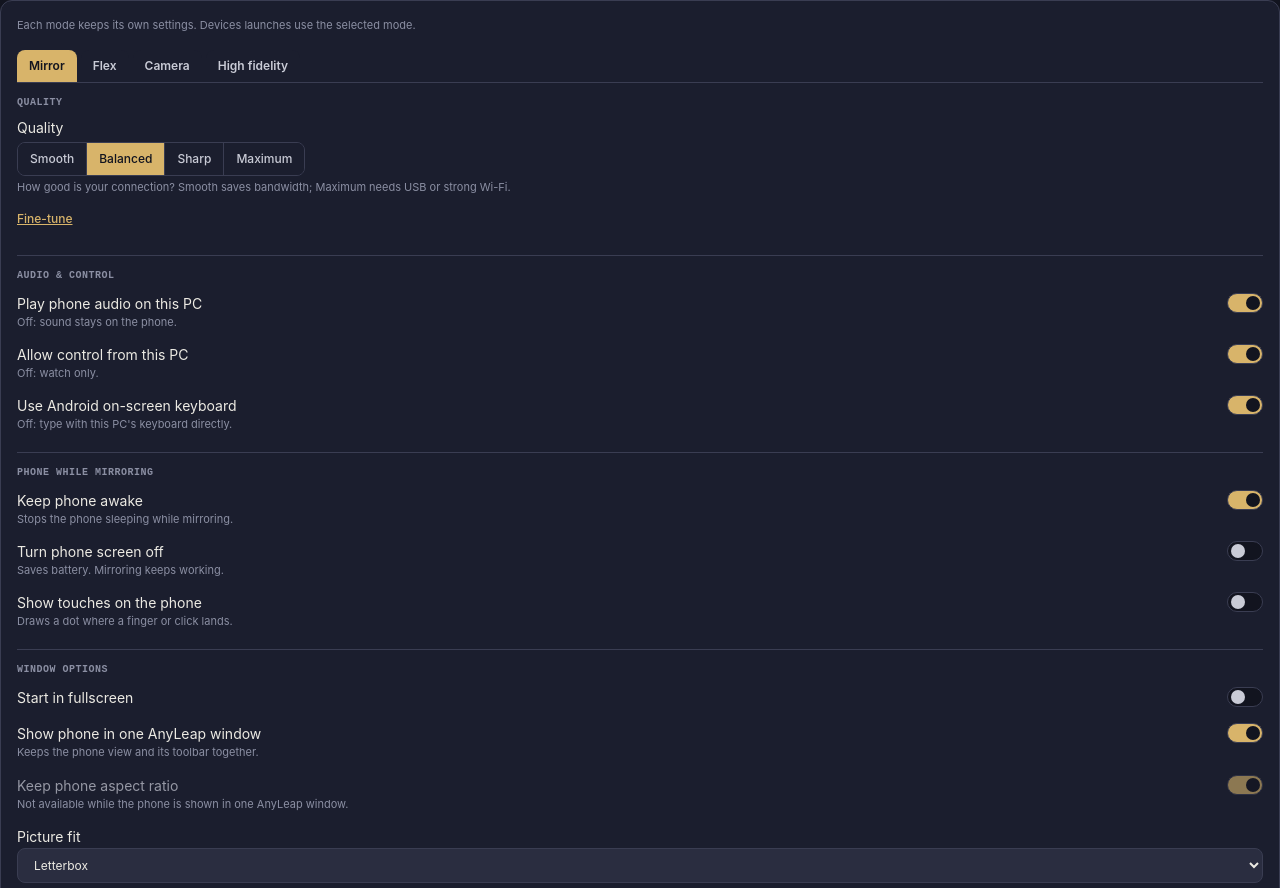
Test: PhoneMirroringSection › aspect-ratio switch is disabled with a reason while one-window mode is on
Check: the switch in the row of "Keep phone aspect ratio" is disabled, box [1227,774,1263,794]
Click the switch in the row of "Show phone in one AnyLeap window".
click(1245, 733)  # box [1227,723,1263,743]
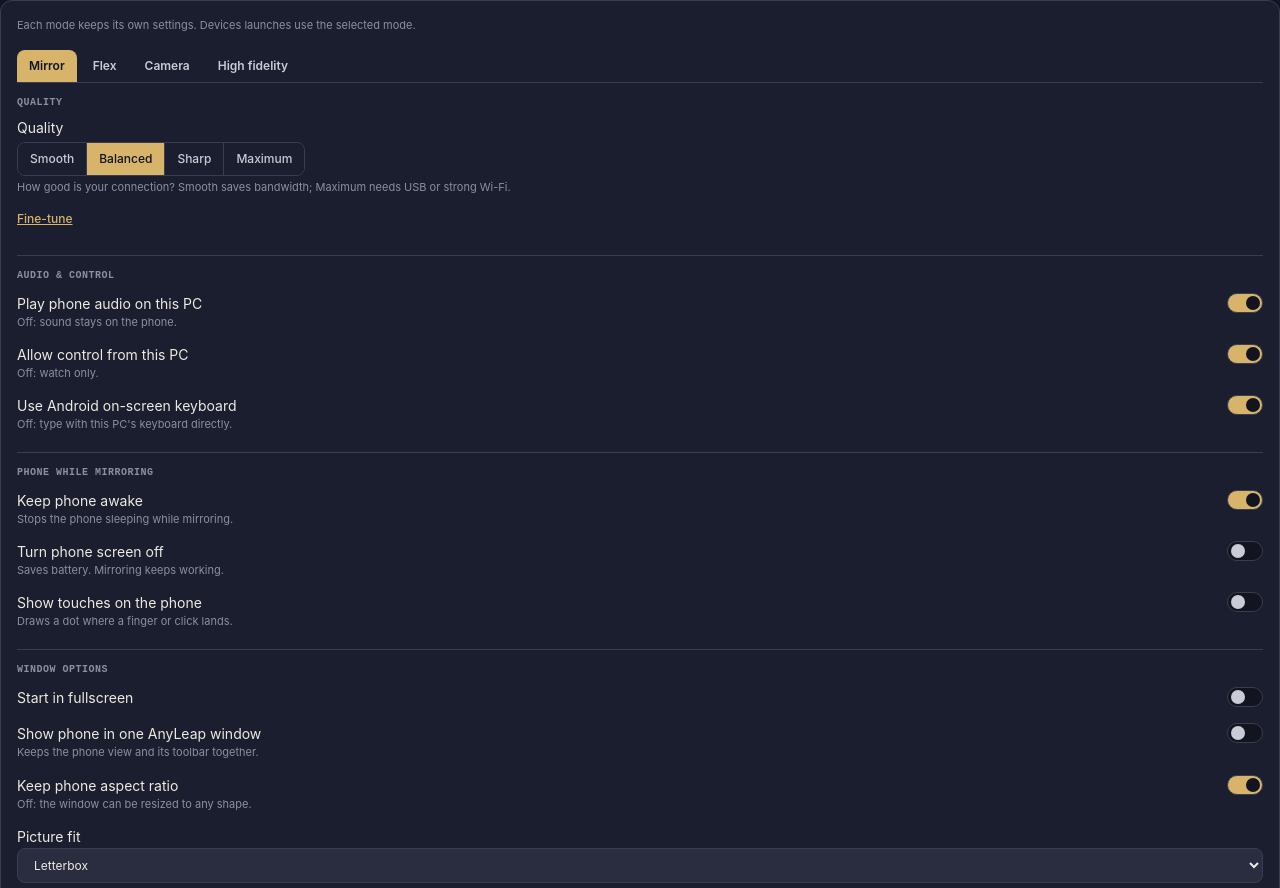
Check: the switch in the row of "Keep phone aspect ratio" is enabled, box [1227,774,1263,794]
